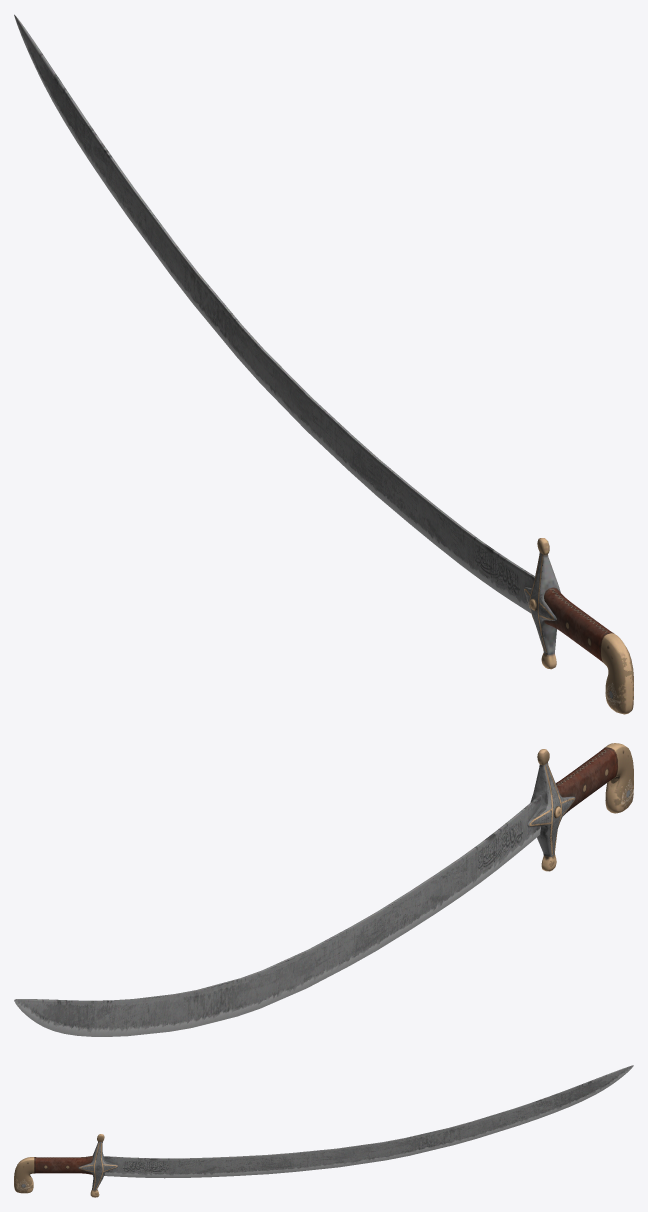
File: Arab_Swords_02.fbx
3 views of the same model, one above another, from view 1: azimuth 30°, elevation 25°; view 2: azimuth 150°, elevation 25°; view 3: azimuth 270°, elevation 25° (orthographic). The views are drawn at different scales.
Visible parts, largest first — view 1: Arab_Swords_02_LOD0; view 2: Arab_Swords_02_LOD0; view 3: Arab_Swords_02_LOD0.
Part boxes in pixels (bbox=[...]): Arab_Swords_02_LOD0: bbox=[14, 14, 633, 714]; Arab_Swords_02_LOD0: bbox=[14, 743, 633, 1036]; Arab_Swords_02_LOD0: bbox=[14, 1065, 633, 1197].
Size of what is drawn, in the model's own units: 1.91 by 18.87 by 80.4.
